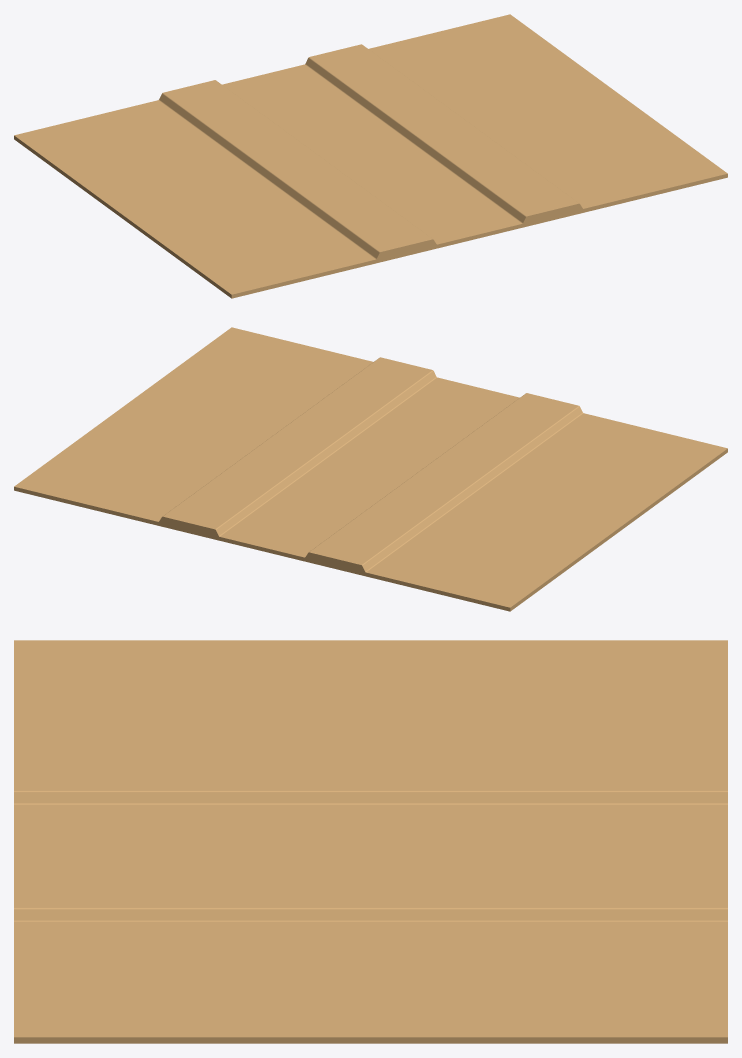
3 views of the same model, one above another, from view 1: azimuth 30°, elevation 25°; view 2: azimuth 150°, elevation 25°; view 3: azimuth 270°, elevation 25° (orthographic). The views are drawn at different scales.
Visible parts, largest first — view 1: TO220_W带.STL; view 2: TO220_W带.STL; view 3: TO220_W带.STL.
Boxes of the visible parts, box(x1,y1,x2,y2) form: TO220_W带.STL: box(14, 14, 727, 298); TO220_W带.STL: box(14, 327, 727, 611); TO220_W带.STL: box(14, 640, 727, 1043).
Size of the model in its own units: 5 by 0.0988 by 3.8.
